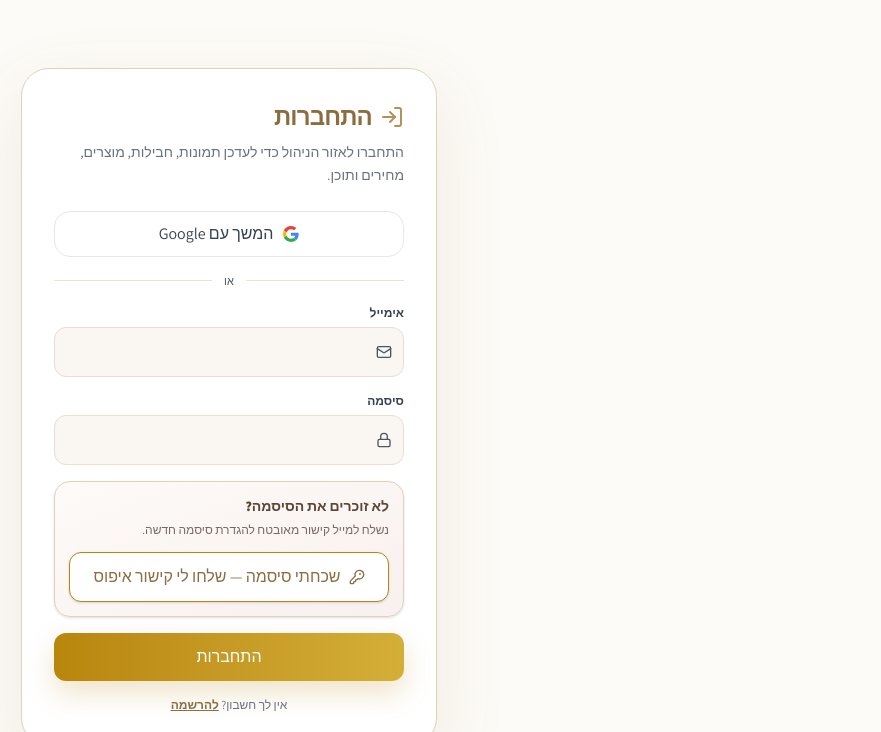
Test case: LoginPage › navigates to admin by default instead of the order-details form
Type "a@b.com" into the field labelled "אימייל" at (229, 352), box [54,327,404,377]
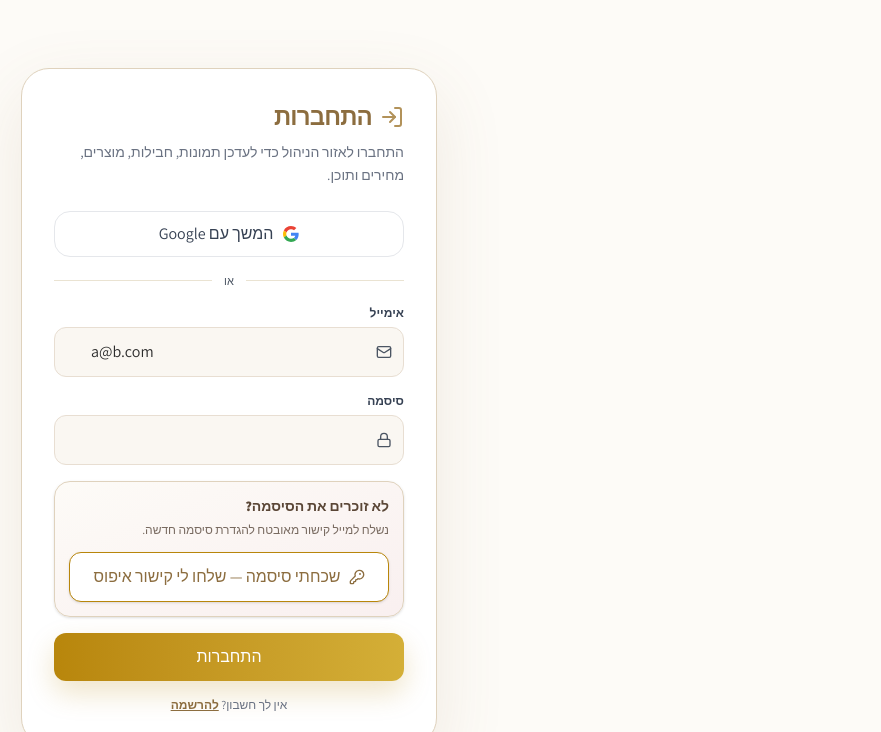
Type "secret" into the password field labelled "סיסמה" at (229, 440), box [54,415,404,465]
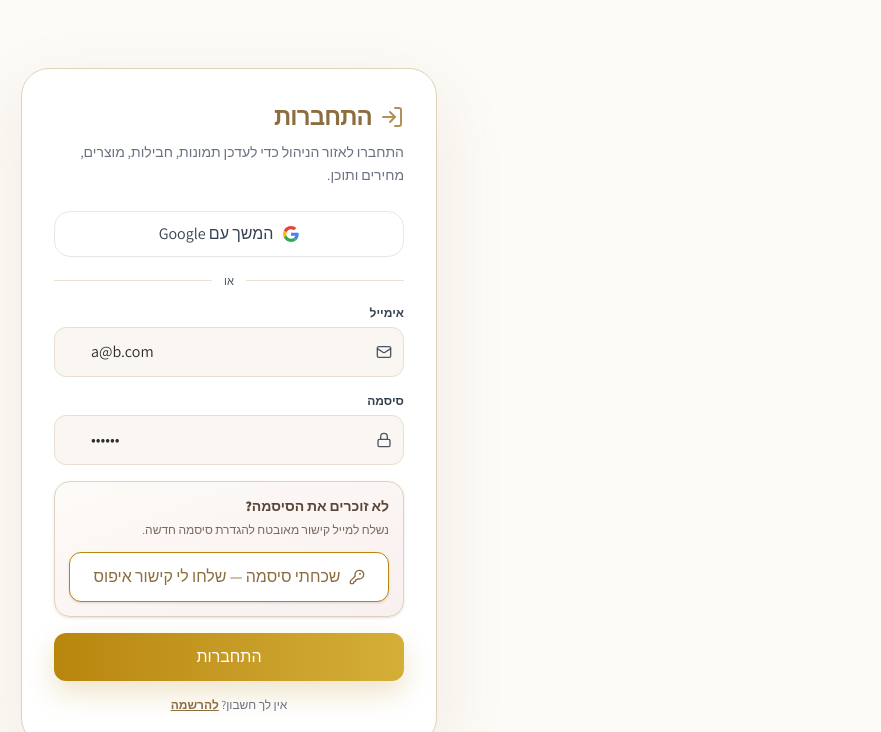
Click the button "התחברות" at (229, 656), box [54,632,404,680]
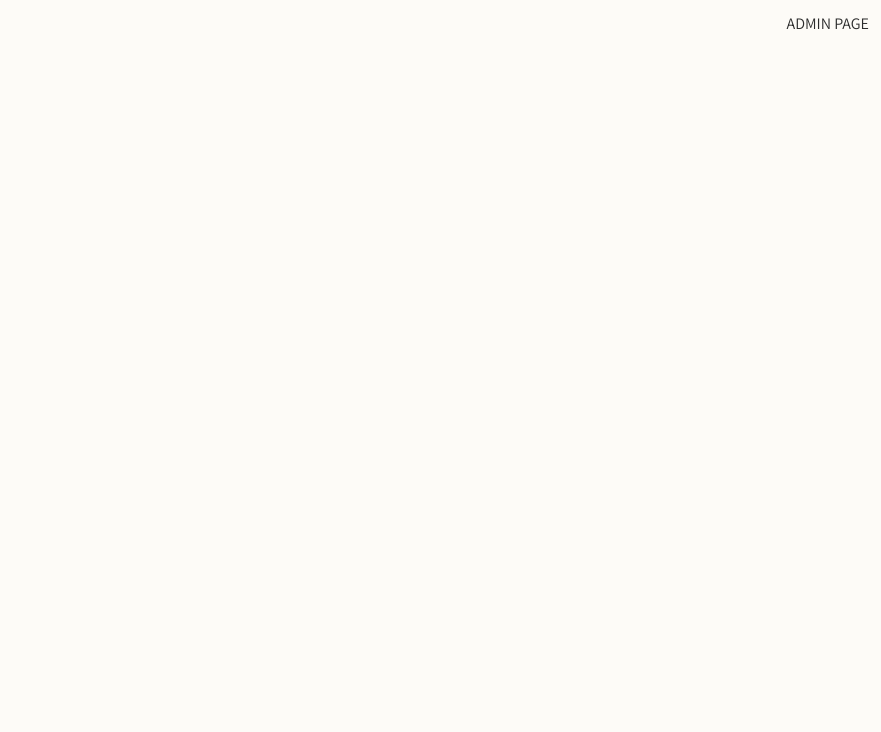
Result: the text "ADMIN PAGE" is shown at [786,13,869,34]
